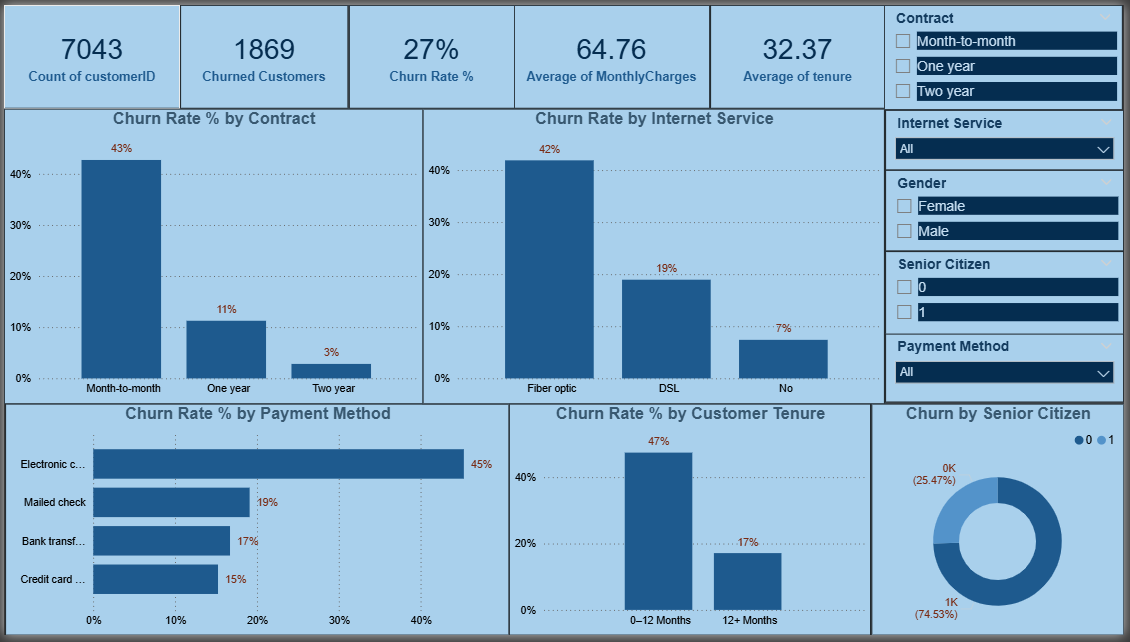

This screenshot's page, from the dashboard's own definition file:
{"tool":"powerbi","page":{"name":"Page 1","canvas":[1280,720],"ordinal":0},"visuals":[{"type":"card","fields":{"Values":["CountNonNull(Customer_Churn_Updated.customerID)"]},"box":[0,0,201.7,118],"z":0},{"type":"card","fields":{"Values":["Customer_Churn_Updated.Churned Customers"]},"box":[201.7,0,192.1,118],"z":1000},{"type":"card","fields":{"Values":["Customer_Churn_Updated.Churn Rate %"]},"box":[393.8,0,189.4,118],"z":2000},{"type":"card","fields":{"Values":["Avg(Customer_Churn_Updated.MonthlyCharges)"]},"box":[583.2,0,223.7,118],"z":3000},{"type":"card","fields":{"Values":["Avg(Customer_Churn_Updated.tenure)"]},"box":[806.9,0,200.3,118],"z":4000},{"type":"clusteredColumnChart","title":"Churn Rate % by Contract","fields":{"Category":["Customer_Churn_Updated.Contract"],"Y":["Customer_Churn_Updated.Churn Rate %"]},"box":[0,118,478.9,337.6],"z":5000},{"type":"clusteredBarChart","title":"Churn Rate % by Payment Method","fields":{"Category":["Customer_Churn_Updated.PaymentMethod"],"Y":["Customer_Churn_Updated.Churn Rate %"]},"box":[1.4,455.6,576.3,264.8],"z":6000},{"type":"clusteredColumnChart","title":"Churn Rate by Internet Service","fields":{"Y":["Customer_Churn_Updated.Churn Rate %"],"Category":["Customer_Churn_Updated.InternetService"]},"box":[478.9,118,528.3,337.6],"z":7000},{"type":"clusteredColumnChart","title":"Churn Rate % by Customer Tenure","fields":{"Y":["Customer_Churn_Updated.Churn Rate %"],"Category":["Customer_Churn_Updated.Tenure Group"]},"box":[577.5,455,413.8,265],"z":8000},{"type":"donutChart","title":"Churn by Senior Citizen","fields":{"Category":["Customer_Churn_Updated.SeniorCitizen"],"Y":["Customer_Churn_Updated.Churned Customers"]},"box":[991.2,455,288.8,265],"z":9000},{"type":"slicer","fields":{"Values":["Customer_Churn_Updated.Contract"]},"box":[1006.2,0,272.5,120],"z":10000},{"type":"slicer","fields":{"Values":["Customer_Churn_Updated.InternetService"]},"box":[1007.5,120,272.5,68.8],"z":11000},{"type":"slicer","fields":{"Values":["Customer_Churn_Updated.gender"]},"box":[1007.5,188.8,272.5,92.5],"z":12000},{"type":"slicer","fields":{"Values":["Customer_Churn_Updated.SeniorCitizen"]},"box":[1007.5,281.2,272.5,96.2],"z":13000},{"type":"slicer","fields":{"Values":["Customer_Churn_Updated.PaymentMethod"]},"box":[1007.5,376.2,272.5,78.8],"z":14000}]}

Visuals, with their boxes in screenshot pixels (x1, y1, x2, y2), scaled from the page's 1280x720 canvas onto the 1130x642 screenshot:
card - CountNonNull(Customer_Churn_Updated.customerID): x1=0 y1=0 x2=178 y2=105
card - Customer_Churn_Updated.Churned Customers: x1=178 y1=0 x2=348 y2=105
card - Customer_Churn_Updated.Churn Rate %: x1=348 y1=0 x2=515 y2=105
card - Avg(Customer_Churn_Updated.MonthlyCharges): x1=515 y1=0 x2=712 y2=105
card - Avg(Customer_Churn_Updated.tenure): x1=712 y1=0 x2=889 y2=105
"Churn Rate % by Contract" clusteredColumnChart: x1=0 y1=105 x2=423 y2=406
"Churn Rate % by Payment Method" clusteredBarChart: x1=1 y1=406 x2=510 y2=641
"Churn Rate by Internet Service" clusteredColumnChart: x1=423 y1=105 x2=889 y2=406
"Churn Rate % by Customer Tenure" clusteredColumnChart: x1=510 y1=406 x2=875 y2=641
"Churn by Senior Citizen" donutChart: x1=875 y1=406 x2=1129 y2=641
slicer - Customer_Churn_Updated.Contract: x1=888 y1=0 x2=1129 y2=107
slicer - Customer_Churn_Updated.InternetService: x1=889 y1=107 x2=1129 y2=168
slicer - Customer_Churn_Updated.gender: x1=889 y1=168 x2=1129 y2=251
slicer - Customer_Churn_Updated.SeniorCitizen: x1=889 y1=251 x2=1129 y2=337
slicer - Customer_Churn_Updated.PaymentMethod: x1=889 y1=335 x2=1129 y2=406
